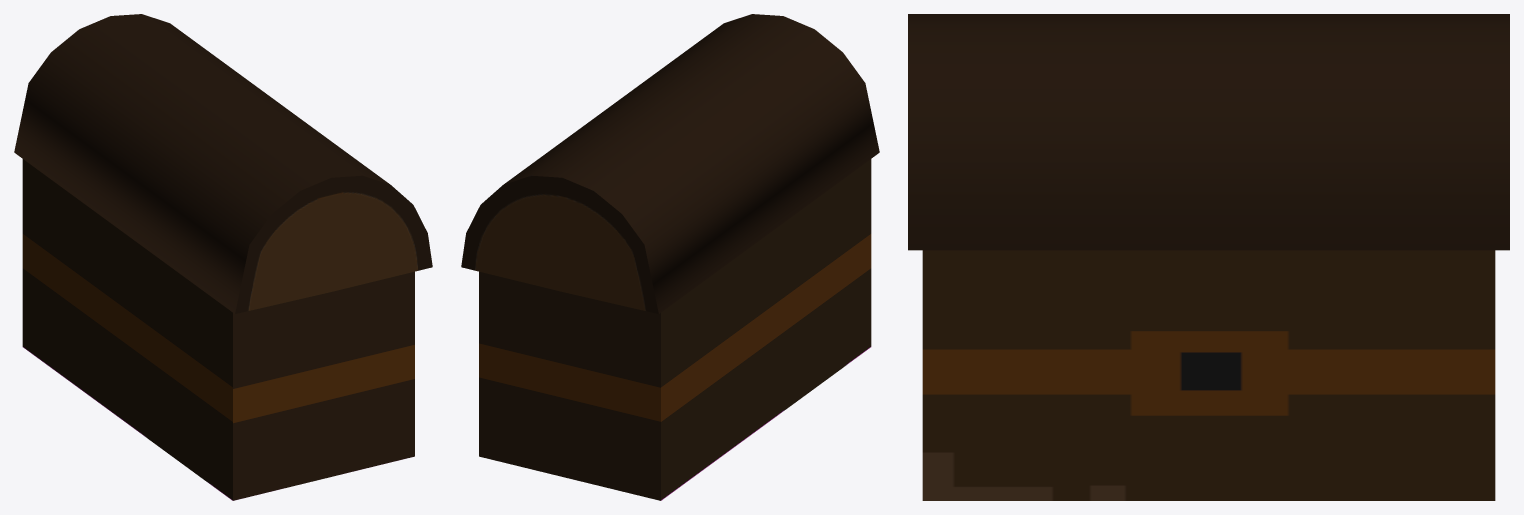
The model's file is chest.fbx.
3 renders of one model, left to right at view 1: azimuth 30°, elevation 25°; view 2: azimuth 150°, elevation 25°; view 3: azimuth 270°, elevation 25°, orthographic. The views are drawn at different scales.
Visible parts, largest first — view 1: pCube1, pCylinder1; view 2: pCube1, pCylinder1; view 3: pCube1, pCylinder1.
Part boxes in pixels (x1,y1,x2,y2): pCube1: (22, 159, 414, 500); pCylinder1: (14, 14, 432, 313); pCube1: (479, 159, 871, 500); pCylinder1: (461, 14, 879, 313); pCube1: (922, 250, 1495, 500); pCylinder1: (908, 14, 1509, 250).
Size of the model in its own units: 1.09 by 1.6 by 2.1.
